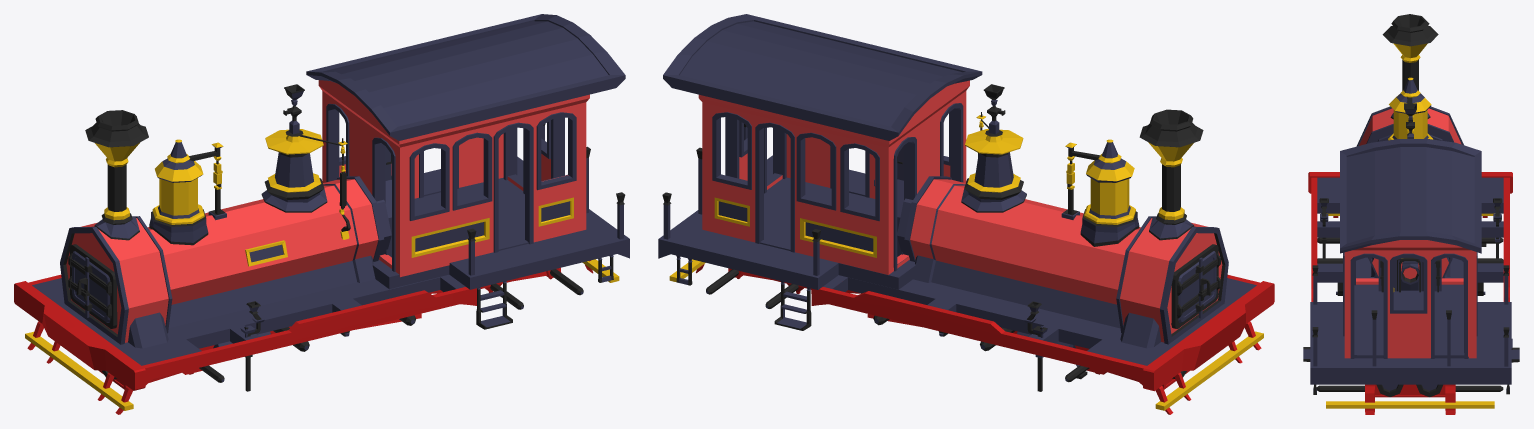
File: SteamLocomotive_type2_.fbx
3 views of the same model, side by side, from view 1: azimuth 30°, elevation 25°; view 2: azimuth 150°, elevation 25°; view 3: azimuth 270°, elevation 25° (orthographic). The views are drawn at different scales.
Visible parts, largest first — view 1: SteamLocomotive_type2_; view 2: SteamLocomotive_type2_; view 3: SteamLocomotive_type2_.
Part boxes in pixels (x1=…): SteamLocomotive_type2_: x1=14, y1=14, x2=629, y2=414; SteamLocomotive_type2_: x1=658, y1=14, x2=1274, y2=414; SteamLocomotive_type2_: x1=1303, y1=14, x2=1519, y2=414.
Size of the model in its own units: 6.12 by 2.97 by 2.62.
1 material, 1 textured.
